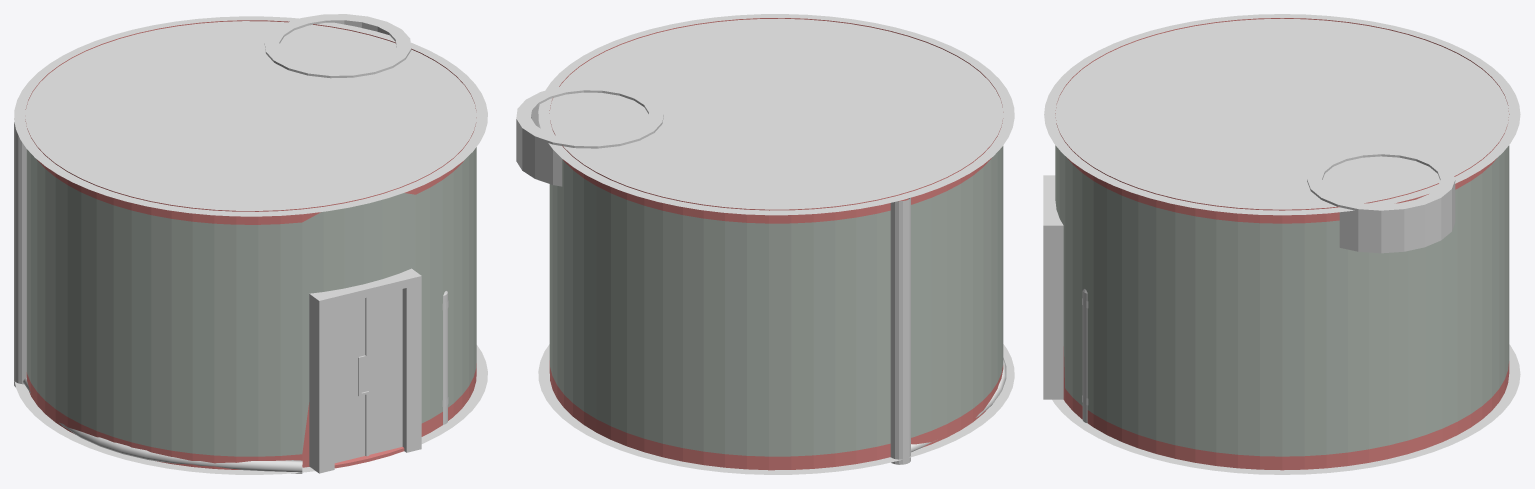
The model's file is InteriorOfShip.fbx.
3 renders of one model, left to right at view 1: azimuth 30°, elevation 25°; view 2: azimuth 150°, elevation 25°; view 3: azimuth 270°, elevation 25°, orthographic.
Parts seen in each view (by area): view 1: Nave, NaveTecho, Puerta, MarcoPuerta, naveArriba, tubo, NaveFloor, tubo2, detallePuerta, TanqueOxigeno; view 2: Nave, NaveTecho, tubo, naveArriba, NaveFloor; view 3: Nave, NaveTecho, naveArriba, MarcoPuerta, NaveFloor, TanqueOxigeno.
Part boxes in pixels (x1=…): Nave: x1=25, y1=20, x2=476, y2=469; NaveTecho: x1=14, y1=16, x2=487, y2=216; Puerta: x1=334, y1=289, x2=402, y2=463; MarcoPuerta: x1=309, y1=268, x2=421, y2=473; naveArriba: x1=264, y1=14, x2=411, y2=78; tubo: x1=14, y1=122, x2=26, y2=387; NaveFloor: x1=14, y1=345, x2=487, y2=474; tubo2: x1=23, y1=376, x2=302, y2=473; detallePuerta: x1=358, y1=297, x2=369, y2=456; TanqueOxigeno: x1=442, y1=291, x2=448, y2=424; Nave: x1=549, y1=18, x2=1003, y2=470; NaveTecho: x1=538, y1=14, x2=1014, y2=215; tubo: x1=890, y1=197, x2=910, y2=464; naveArriba: x1=516, y1=84, x2=663, y2=186; NaveFloor: x1=538, y1=344, x2=1014, y2=474; Nave: x1=1055, y1=18, x2=1509, y2=470; NaveTecho: x1=1044, y1=14, x2=1520, y2=215; naveArriba: x1=1307, y1=148, x2=1455, y2=253; MarcoPuerta: x1=1043, y1=175, x2=1063, y2=399; NaveFloor: x1=1052, y1=344, x2=1520, y2=474; TanqueOxigeno: x1=1082, y1=289, x2=1088, y2=423.
Size of the model in its own units: 1466 by 906 by 1467.
